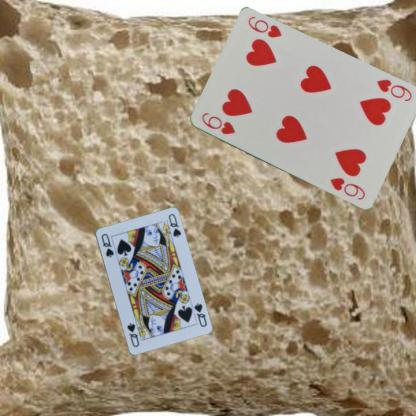6h: (374, 76, 413, 103), (198, 110, 236, 136)
Qs: (98, 231, 115, 258), (191, 301, 208, 328)
